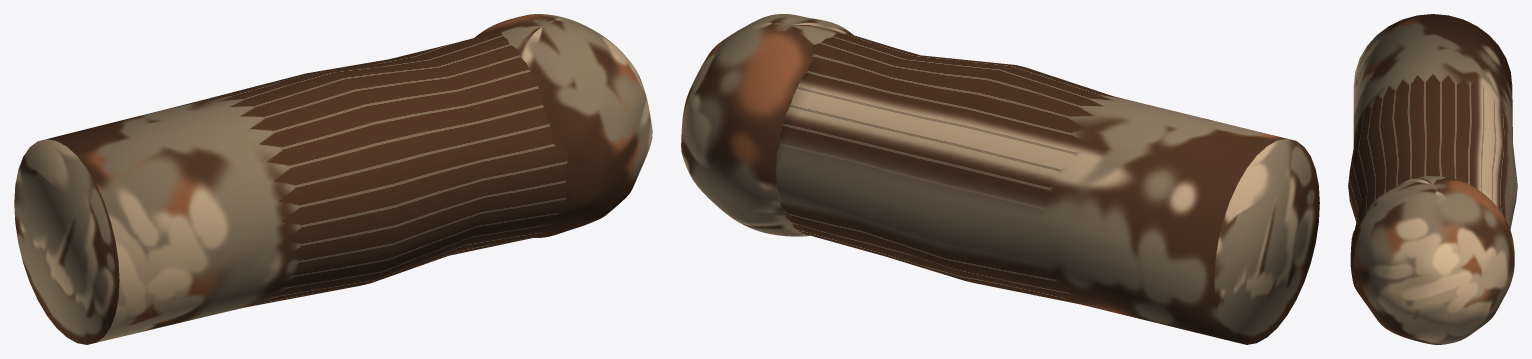
File: caibuatom.glb
The picture shows the model from 3 angles, left to right: view 1: azimuth 30°, elevation 25°; view 2: azimuth 150°, elevation 25°; view 3: azimuth 270°, elevation 25°; orthographic projection. The views are drawn at different scales.
Parts seen in each view (by area): view 1: Cylinder; view 2: Cylinder; view 3: Cylinder.
Part boxes in pixels (box(x1,y1,x2,y2)): Cylinder: box(14, 14, 652, 344); Cylinder: box(681, 14, 1319, 344); Cylinder: box(1348, 14, 1517, 344).
Bounding box in the file's own units: 0.5105 × 0.1731 × 0.1745.
1 material, 1 textured.
